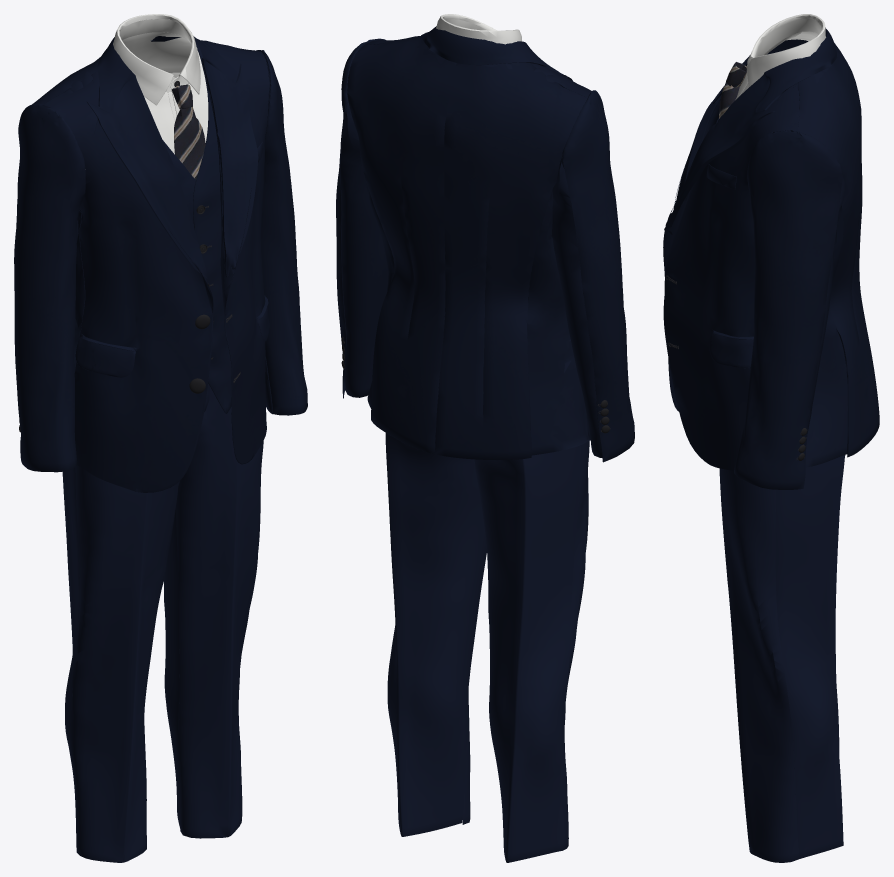
Rendered from peak.glb.
3 renders of one model, left to right at view 1: azimuth 30°, elevation 25°; view 2: azimuth 150°, elevation 25°; view 3: azimuth 270°, elevation 25°, orthographic. The views are drawn at different scales.
Parts seen in each view (by area): view 1: Jacket, Trousers, Shirt, Waistcoat, Tie, Trim; view 2: Jacket, Trousers, Shirt; view 3: Jacket, Trousers, Shirt, Tie.
Part boxes in pixels (box(x1,y1,x2,y2)): Jacket: box(14, 36, 307, 492); Trousers: box(62, 383, 263, 862); Shirt: box(113, 14, 208, 154); Waistcoat: box(75, 44, 231, 413); Tie: box(172, 84, 205, 179); Trim: box(19, 81, 210, 432); Jacket: box(336, 26, 634, 462); Trousers: box(385, 339, 589, 862); Shirt: box(436, 14, 522, 44); Jacket: box(663, 28, 879, 489); Trousers: box(719, 455, 845, 862); Shirt: box(735, 14, 825, 100); Tie: box(719, 62, 746, 118).
Bounding box in the file's own units: 0.5389 × 1.5 × 0.3678.
8 materials, 4 textured.
